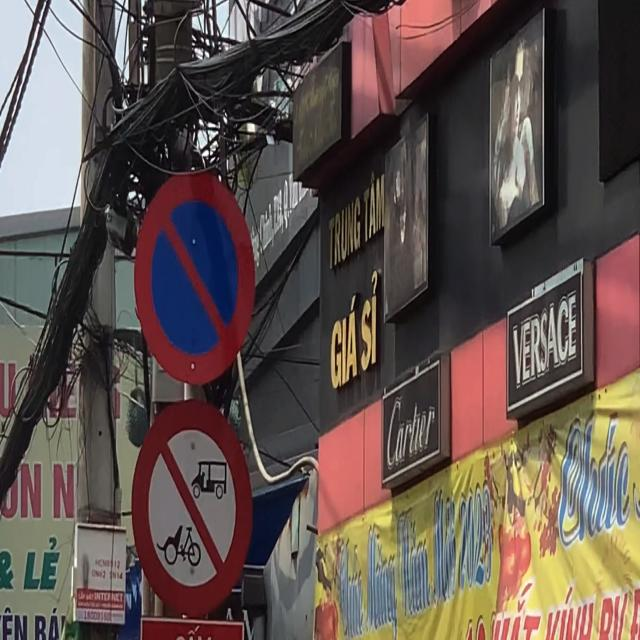Cam do: (134, 170, 256, 387)
